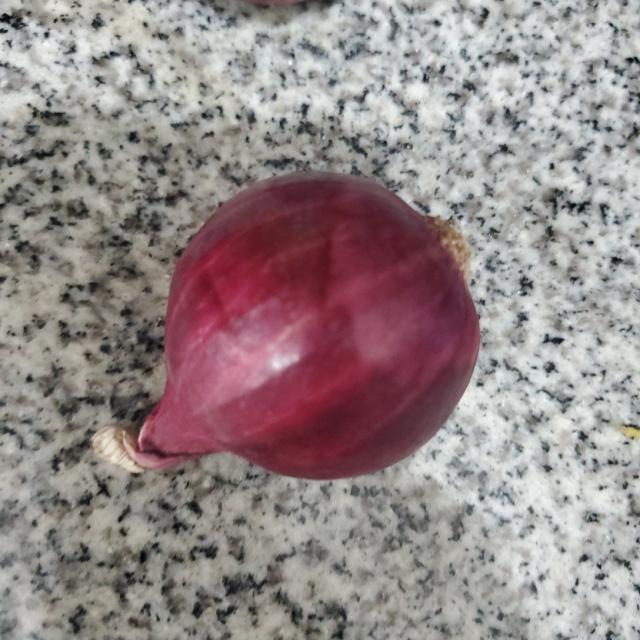onion: (112, 175, 483, 484)
